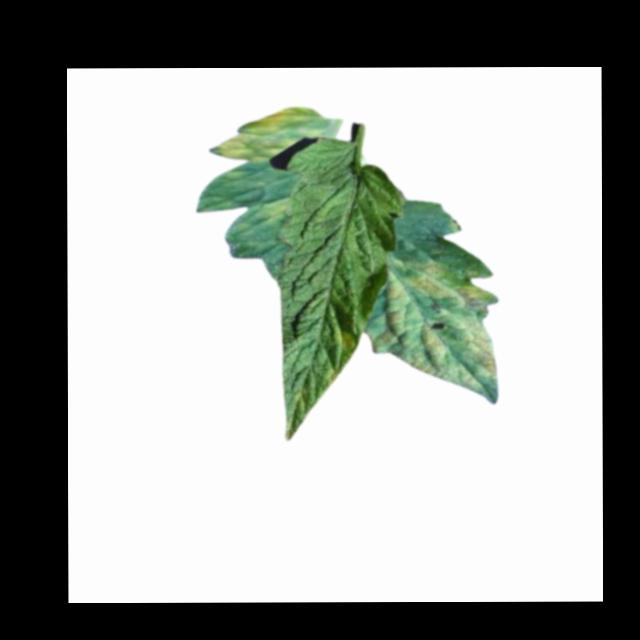Leaf_Mold: (369, 254, 502, 391), (211, 104, 323, 164), (262, 197, 293, 222), (330, 330, 359, 354)
